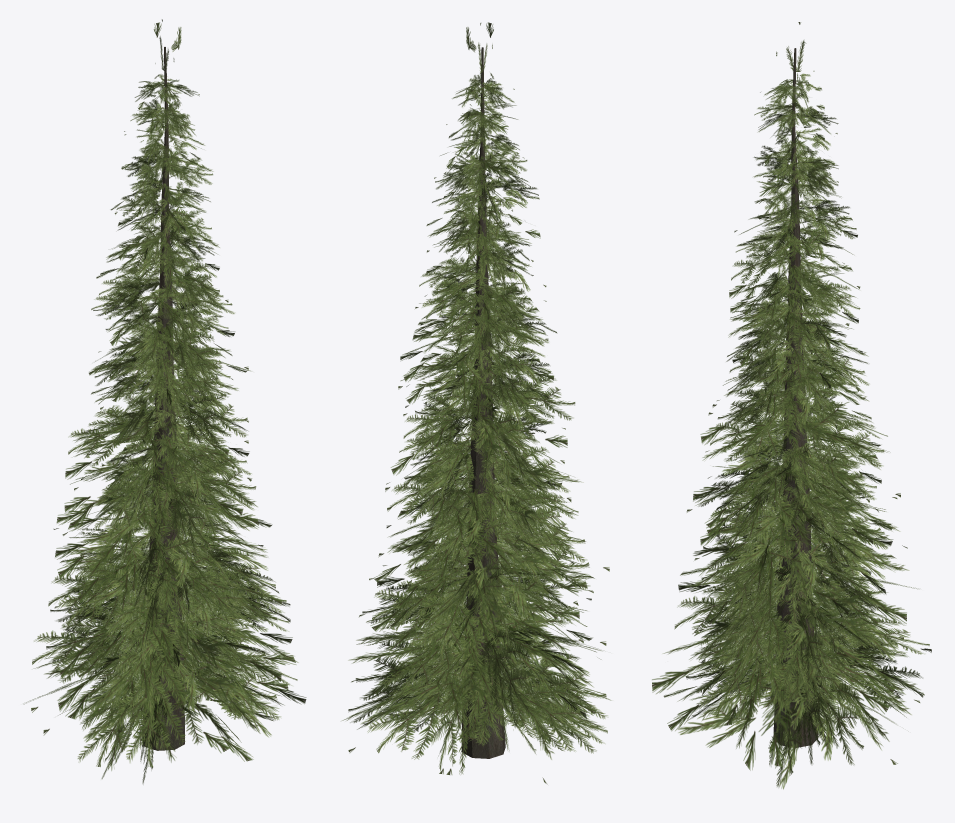
File: prop_tree_fir_b.glb
3 views of the same model, side by side, from view 1: azimuth 30°, elevation 25°; view 2: azimuth 150°, elevation 25°; view 3: azimuth 270°, elevation 25° (orthographic).
Parts seen in each view (by area): view 1: conifer_fir_55; view 2: conifer_fir_55; view 3: conifer_fir_55.
Part boxes in pixels (<box>): conifer_fir_55: <box>24,19,306,784</box>; conifer_fir_55: <box>342,22,611,784</box>; conifer_fir_55: <box>652,22,931,789</box>.
Size of the model in its own units: 5.57 by 15.38 by 5.52.
2 materials, 2 textured.
